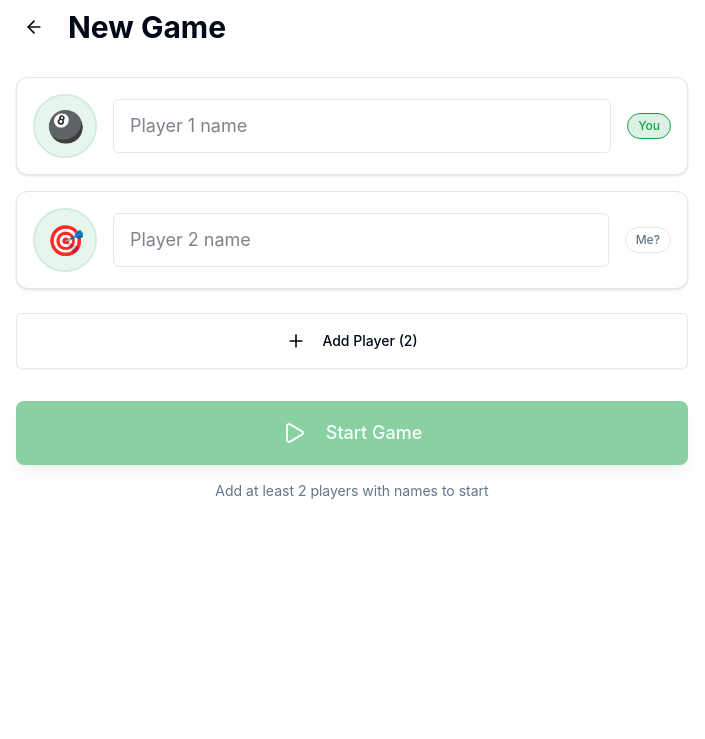
Test: NewGamePage › should ask for the creator's own name when their row is empty
Expected: the field with placeholder "Player 1 name" is shown, [113, 99, 611, 153]
Click the button "Add Player (2)" at (352, 341), box [16, 313, 688, 369]
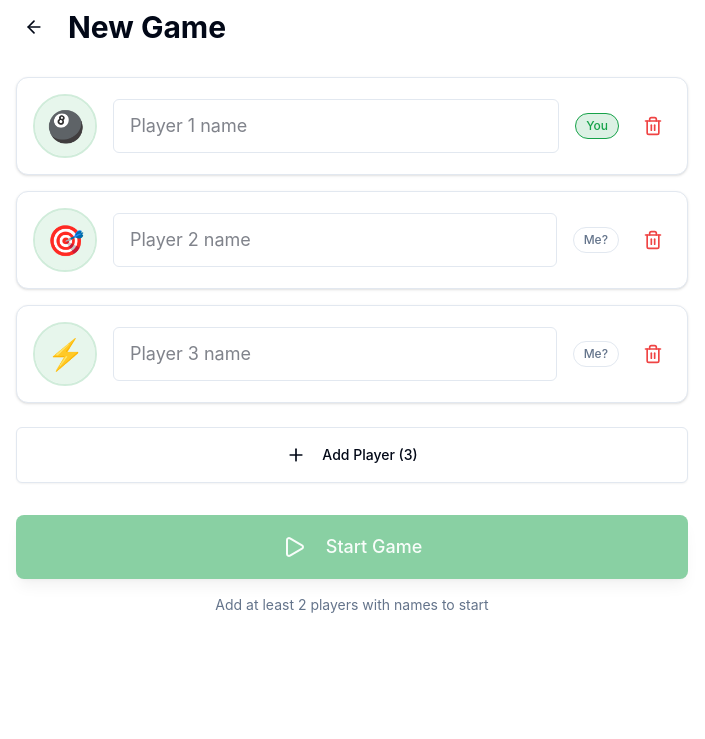
Type "Anna" into the field with placeholder "Player 2 name" at (335, 240), box [113, 213, 557, 267]
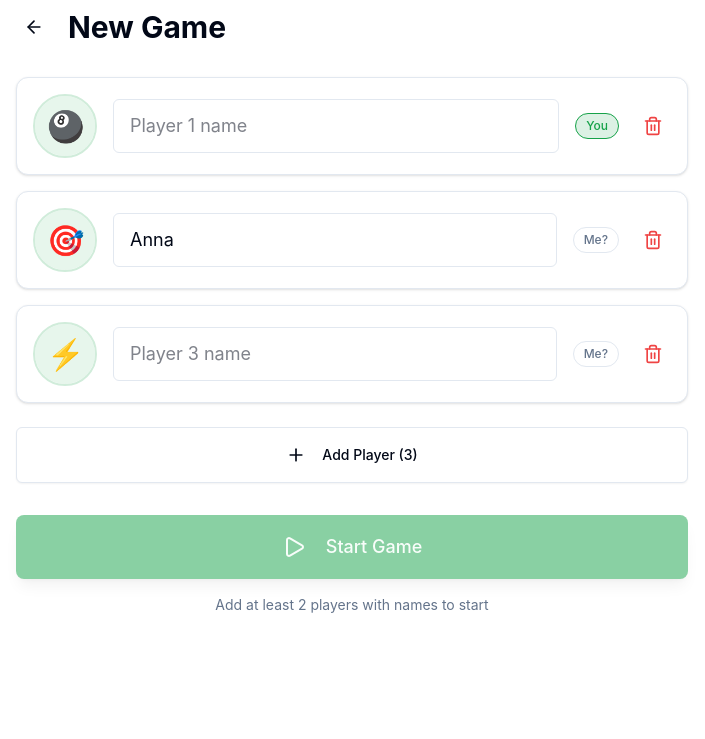
Type "Boris" into the field with placeholder "Player 3 name" at (335, 354), box [113, 327, 557, 381]
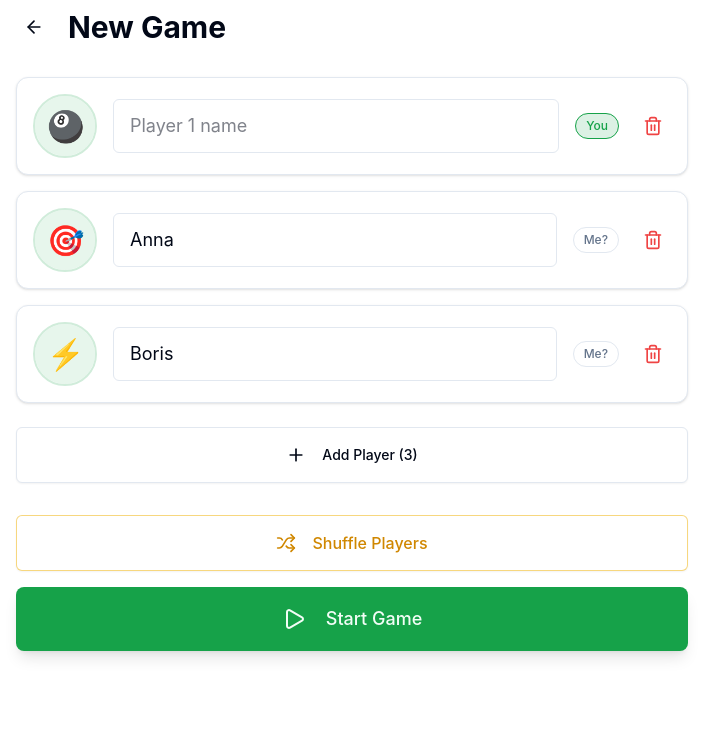
Click the button "Start Game" at (352, 619), box [16, 587, 688, 651]
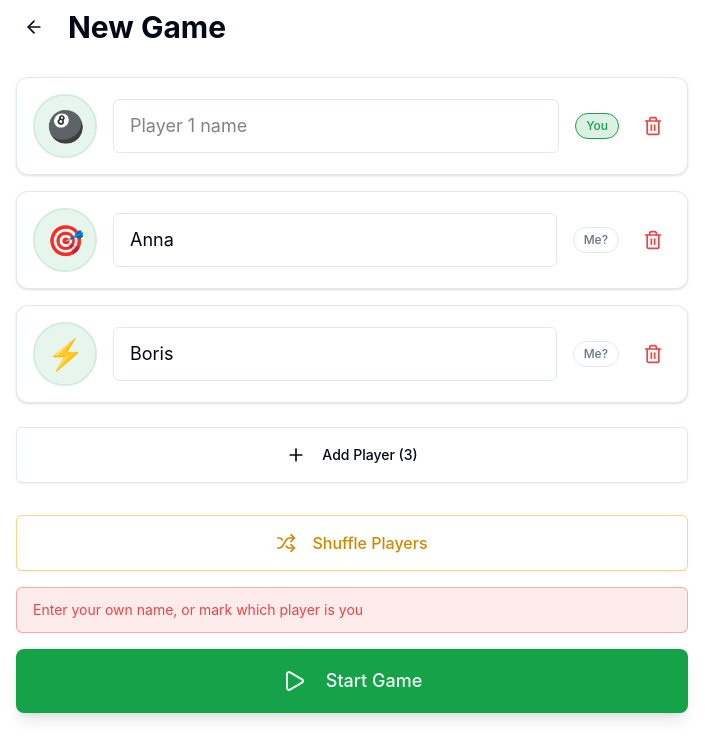
Expected: the message shows "Enter your own name", [33, 601, 363, 618]
